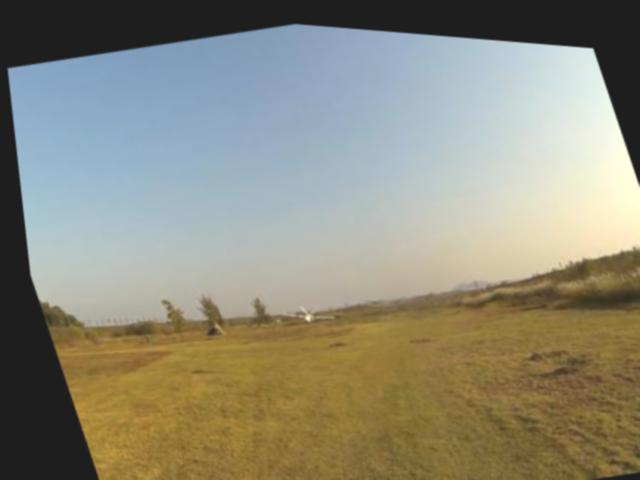uav: (262, 281, 340, 340)
